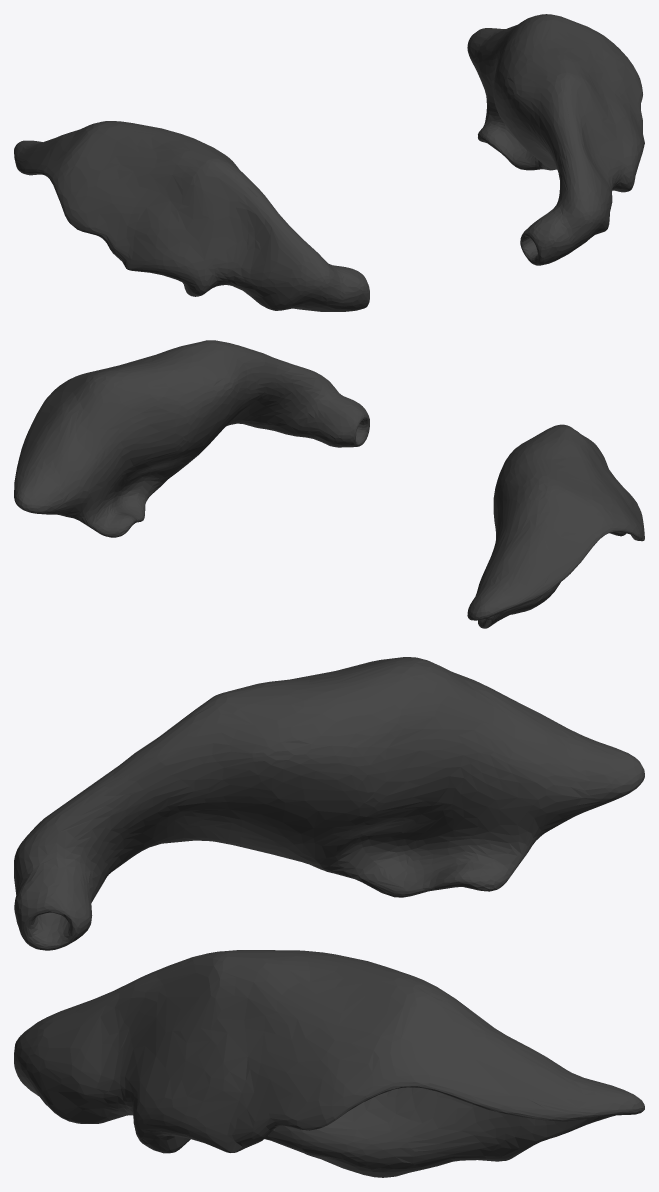
The model's file is ear.glb.
The picture shows the model from 3 angles, top to bottom: view 1: azimuth 30°, elevation 25°; view 2: azimuth 150°, elevation 25°; view 3: azimuth 270°, elevation 25°; orthographic projection. The views are drawn at different scales.
Visible parts, largest first — view 1: ear; view 2: ear; view 3: ear.
Part boxes in pixels (<box>): ear: <box>14,14,644,311</box>; ear: <box>14,340,644,628</box>; ear: <box>14,657,644,1177</box>.
Bounding box in the file's own units: 0.0038 × 0.0009 × 0.0024.
Materials: 1 (1 with a texture image).
